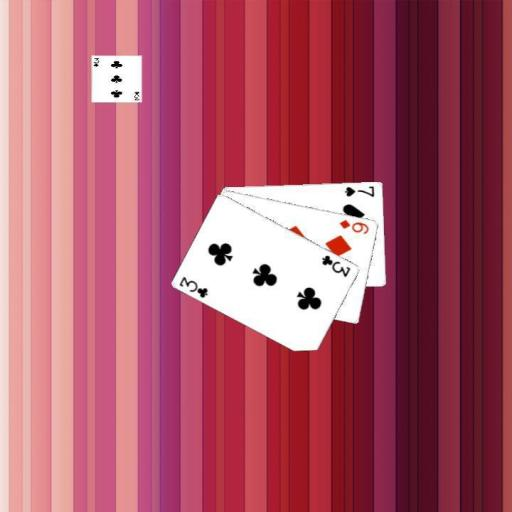card-corner: (176, 273, 210, 299), (319, 252, 352, 278), (336, 216, 370, 236), (342, 182, 376, 198)
